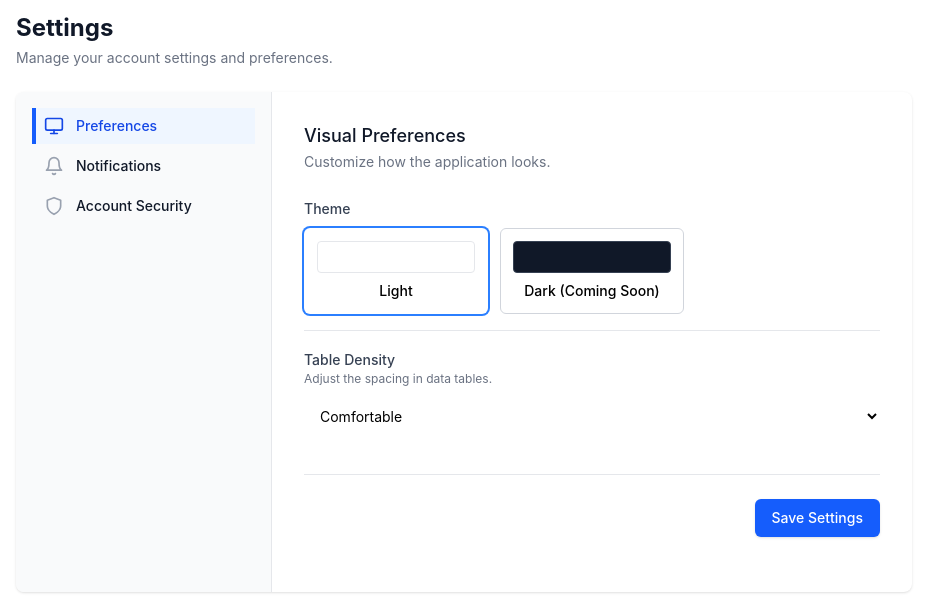
SettingsPage › toggles settings and saves to localStorage
# Change to dark theme
What coordinates should you click on to do the following:
click the button "Dark (Coming Soon)"
I would click on:
 (592, 271)
Its box is left=500, top=228, right=684, bottom=314.
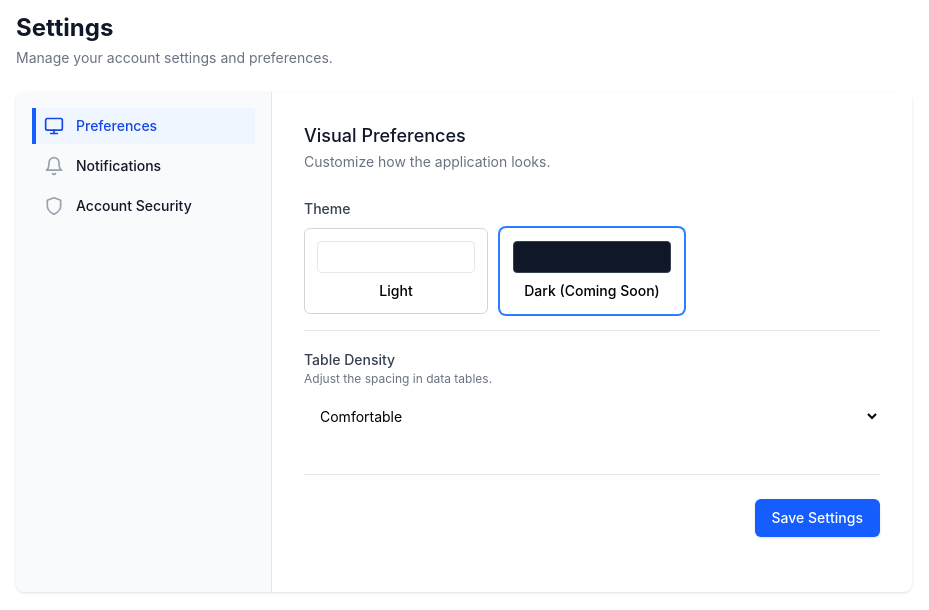
# Click Save button
What coordinates should you click on to do the following:
click the button "Save Settings"
I would click on:
 (817, 518)
Its box is left=755, top=499, right=880, bottom=537.
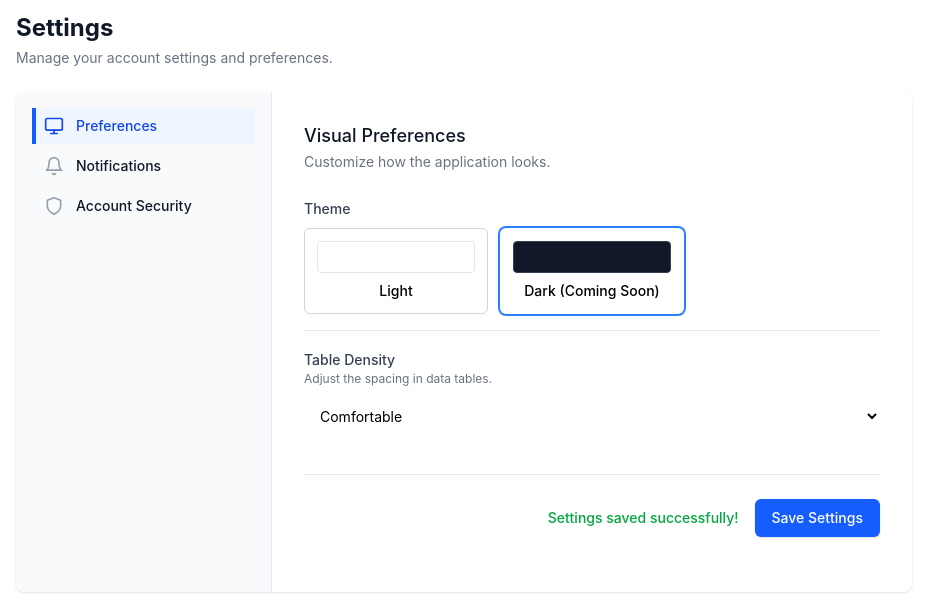
Expected: the text "Settings saved successfully!" is shown, left=548, top=508, right=738, bottom=528
